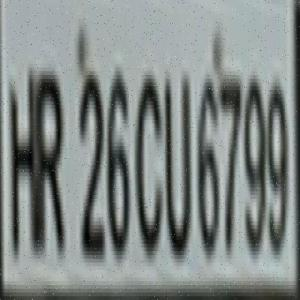Plate: (8, 56, 294, 296)
